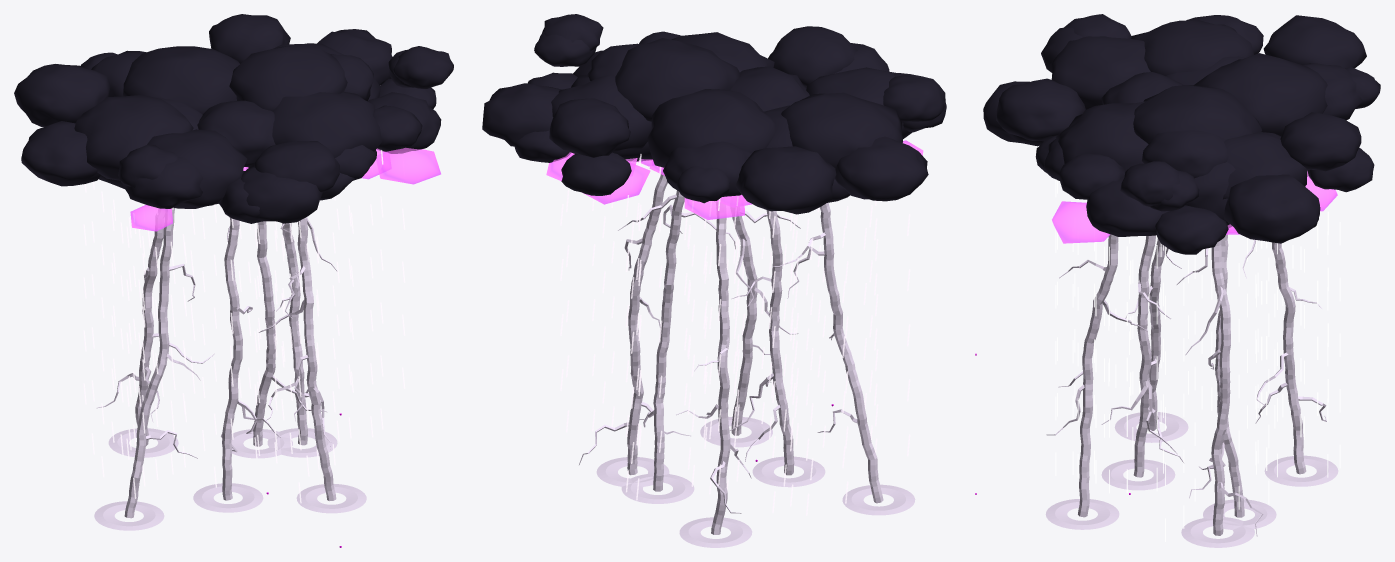
File: ElectricUltimate.fbx
3 views of the same model, side by side, from view 1: azimuth 30°, elevation 25°; view 2: azimuth 150°, elevation 25°; view 3: azimuth 270°, elevation 25° (orthographic). The views are drawn at different scales.
Visible parts, largest first — view 1: Cloud, Rain, Bolt_04, Bolt_06, Bolt_05, Bolt_03, Bolt_02, Bolt_01, CloudGlow; view 2: Cloud, Rain, Bolt_03, Bolt_04, Bolt_02, Bolt_05, Bolt_01, Bolt_06, CloudGlow; view 3: Cloud, Rain, Bolt_06, Bolt_01, Bolt_05, Bolt_03, Bolt_02, Bolt_04, CloudGlow.
Boxes of the visible parts, x1,y1,x2,y2 form: Cloud: (14,14,453,223); Rain: (83,150,405,503); Bolt_04: (94,207,200,530); Bolt_06: (259,217,366,513); Bolt_05: (193,217,280,512); Bolt_03: (97,209,214,457); Bolt_02: (227,167,327,458); Bolt_01: (266,218,337,457); CloudGlow: (130,148,440,231); Cloud: (482,14,946,214); Rain: (560,154,910,515); Bolt_03: (676,202,752,547); Bolt_04: (772,202,915,515); Bolt_02: (618,190,735,503); Bolt_05: (729,210,825,487); Bolt_01: (579,170,690,486); Bolt_06: (700,207,800,447); CloudGlow: (546,140,923,219); Cloud: (983,14,1380,254); Rain: (1055,179,1340,541); Bolt_06: (1045,234,1147,529); Bolt_01: (1181,240,1262,547); Bolt_05: (1101,235,1184,490); Bolt_03: (1255,242,1338,486); Bolt_02: (1176,233,1276,529); Bolt_04: (1114,238,1188,442); CloudGlow: (1052,171,1337,243).
Bounding box in the file's own units: 31.14 × 30.65 × 26.38.
